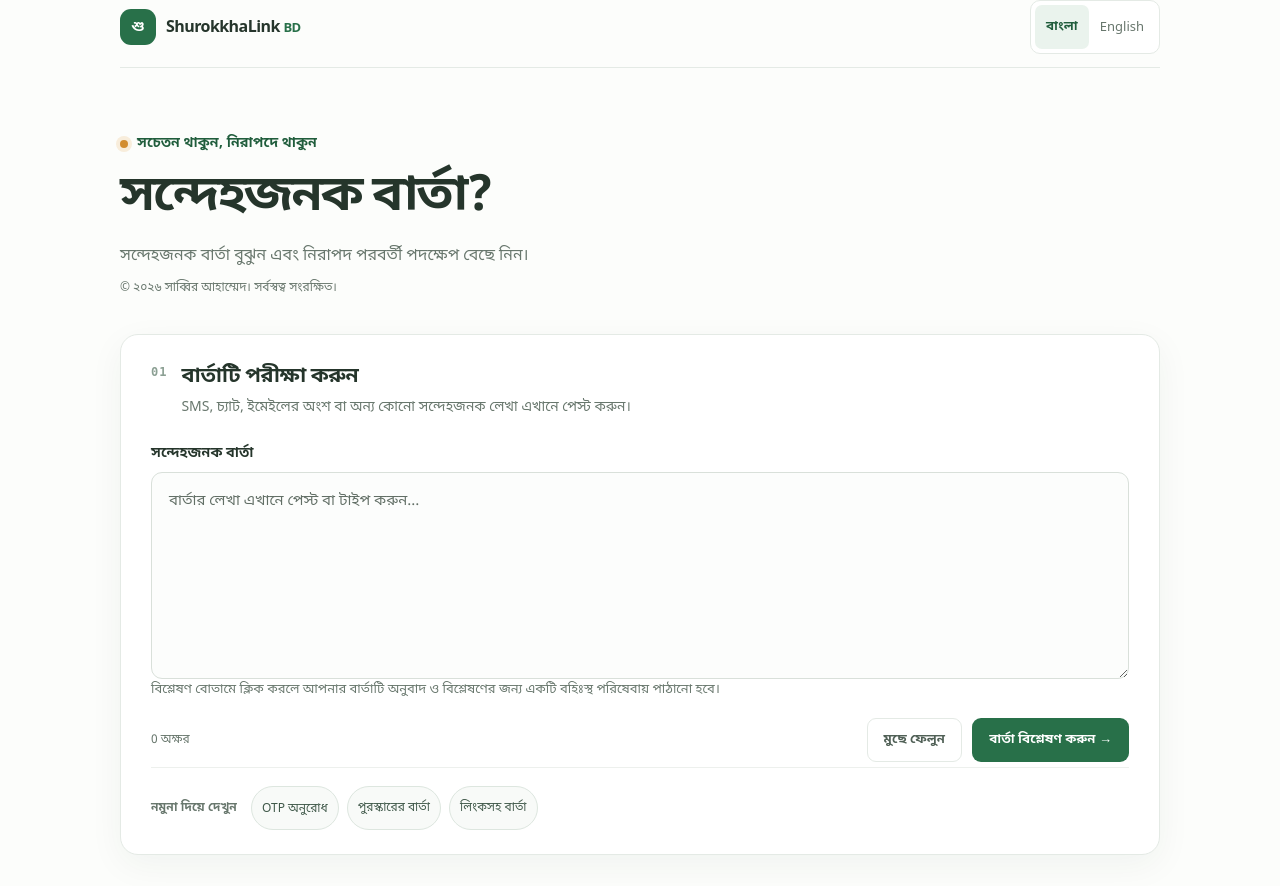
Test: message analysis workflow › shows both translations for other-language input detected automatically
Step 1. Click the button "English" → (1122, 26), box [1089,4,1155,48]
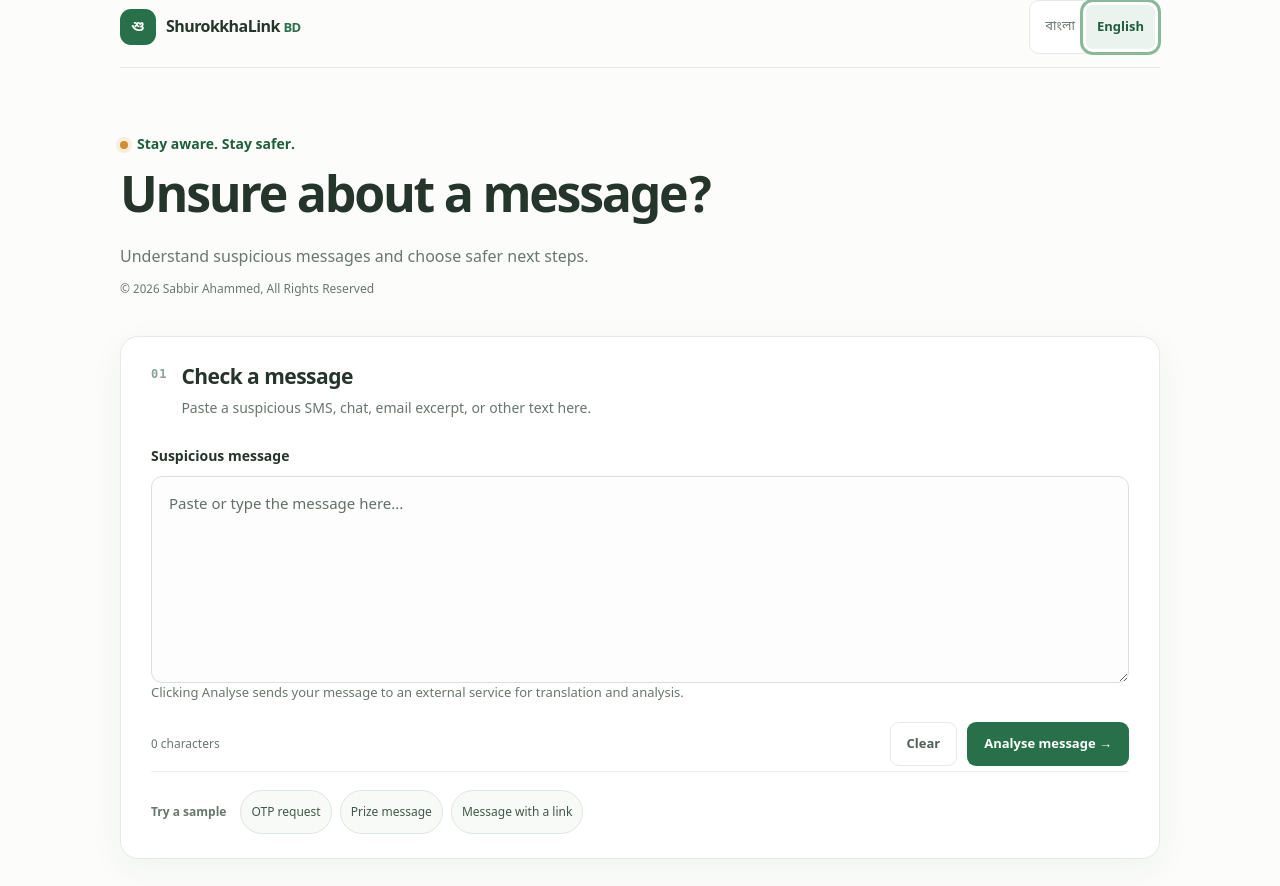
Step 2. Type "নমুনা বার্তা" into the text box labelled "Suspicious message" → (640, 580), box [151,476,1129,683]
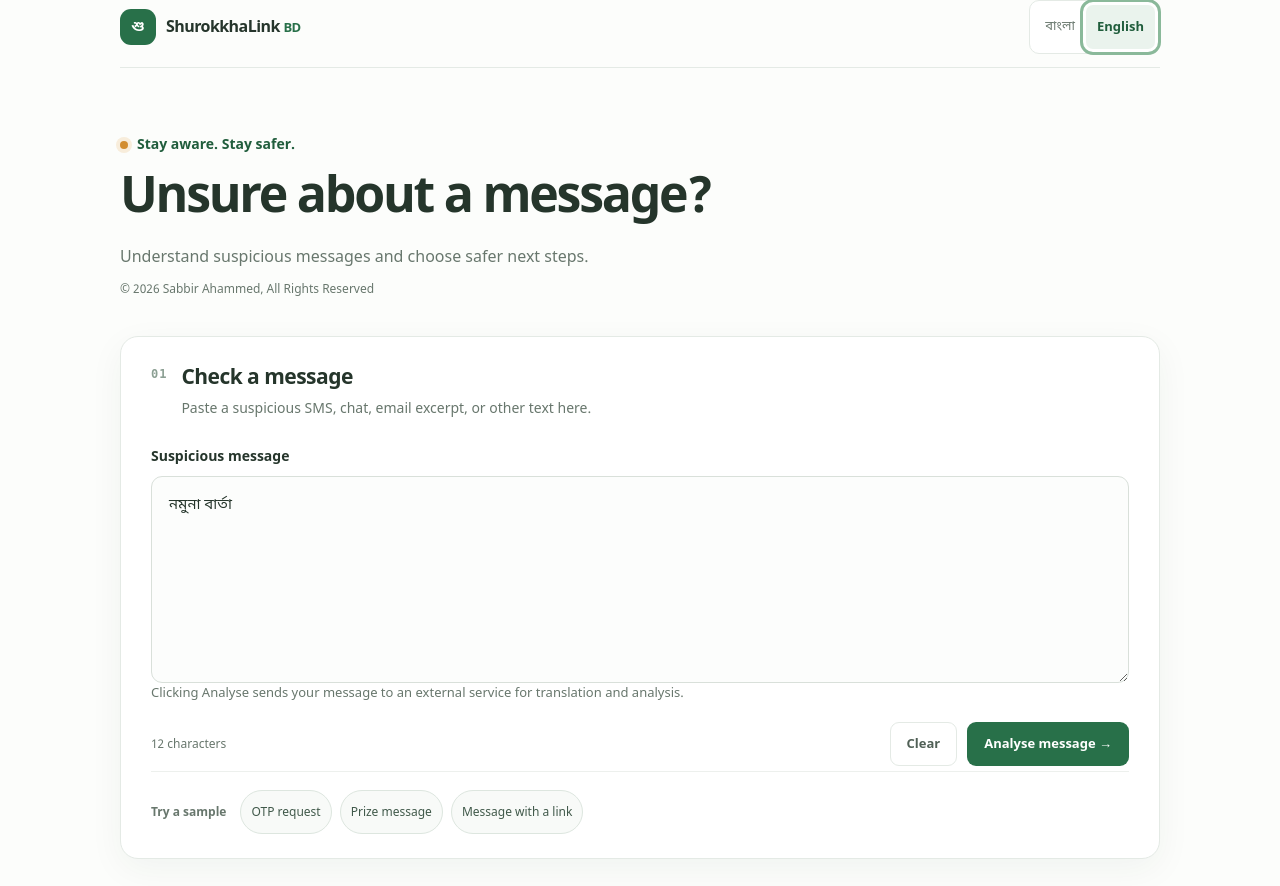
Step 3. Click the button "Analyse message →" → (1048, 744), box [967,722,1129,766]
(page scrolled)
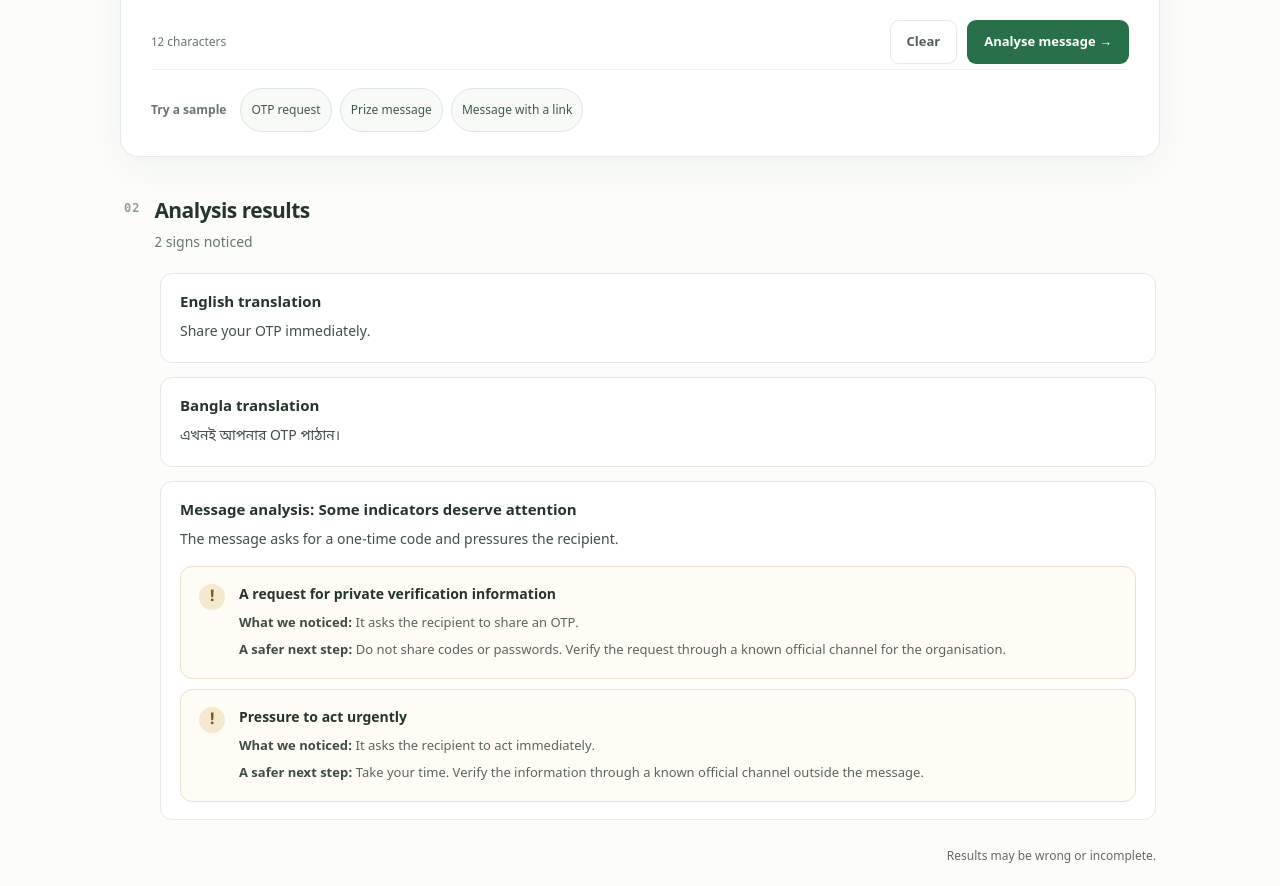
Now the heading "English translation" is shown, box [180,293,321,313]
Now the heading "Bangla translation" is shown, box [180,397,319,417]
Now the text "Share your OTP immediately." is shown, box [180,323,370,342]
